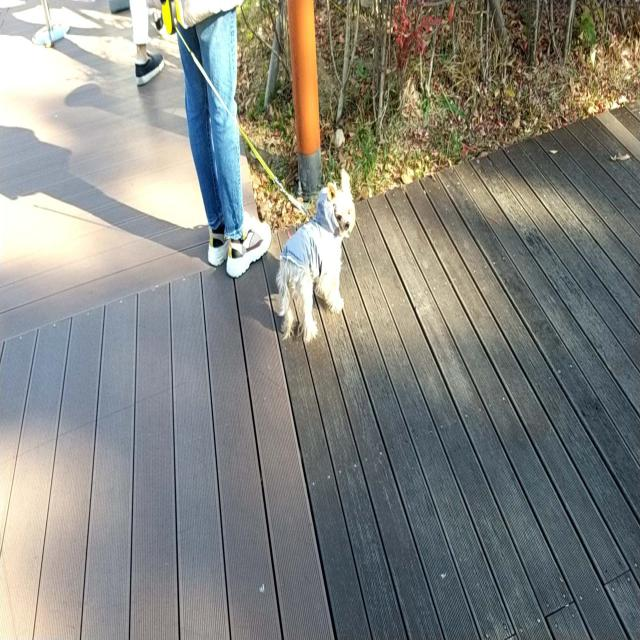Leashed_Dog: (161, 0, 355, 345)
